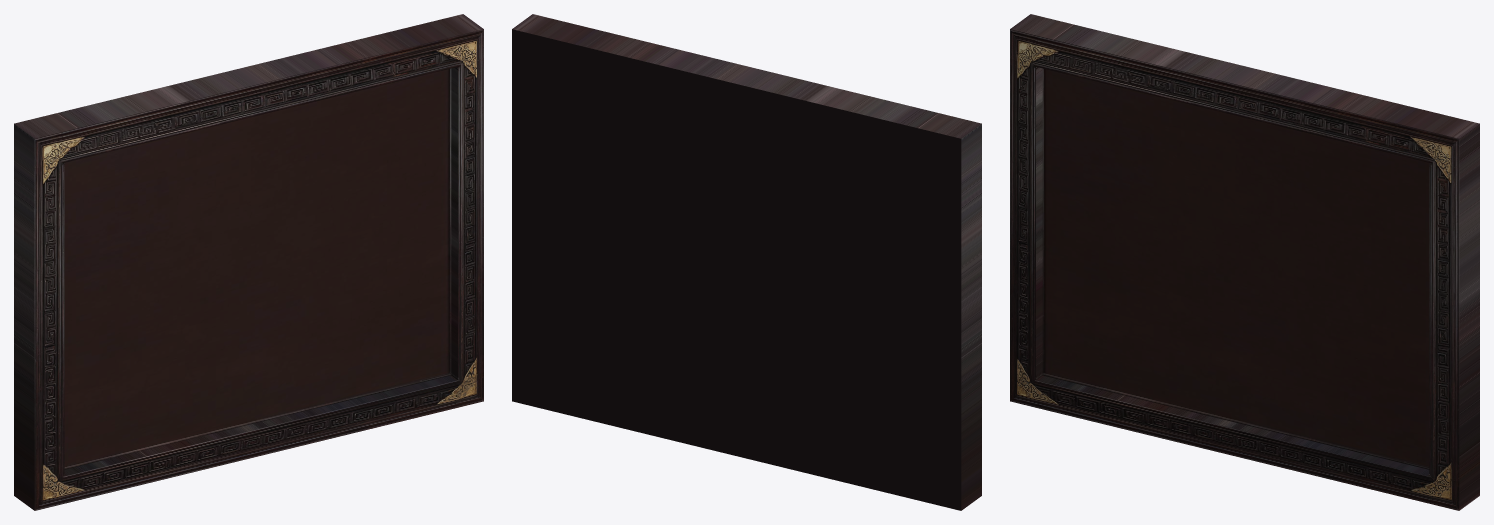
Rendered from panel_relic_card.glb.
3 views of the same model, side by side, from view 1: azimuth 30°, elevation 25°; view 2: azimuth 150°, elevation 25°; view 3: azimuth 330°, elevation 25° (orthographic).
Parts seen in each view (by area): view 1: relic_card; view 2: relic_card; view 3: relic_card.
Boxes of the visible parts, x1,y1,x2,y2 form: relic_card: (14,14,483,510); relic_card: (512,14,981,510); relic_card: (1010,14,1479,510).
Bounding box in the file's own units: 0.48 × 0.38 × 0.042.
Materials: 1 (1 with a texture image).
